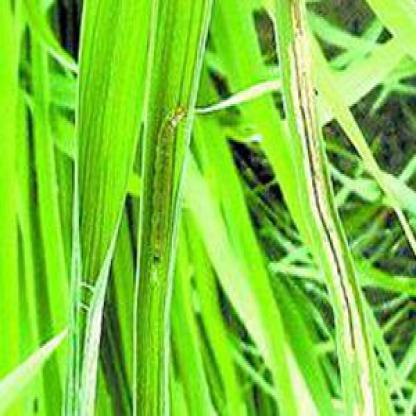leaf-folder: (132, 102, 222, 325)
